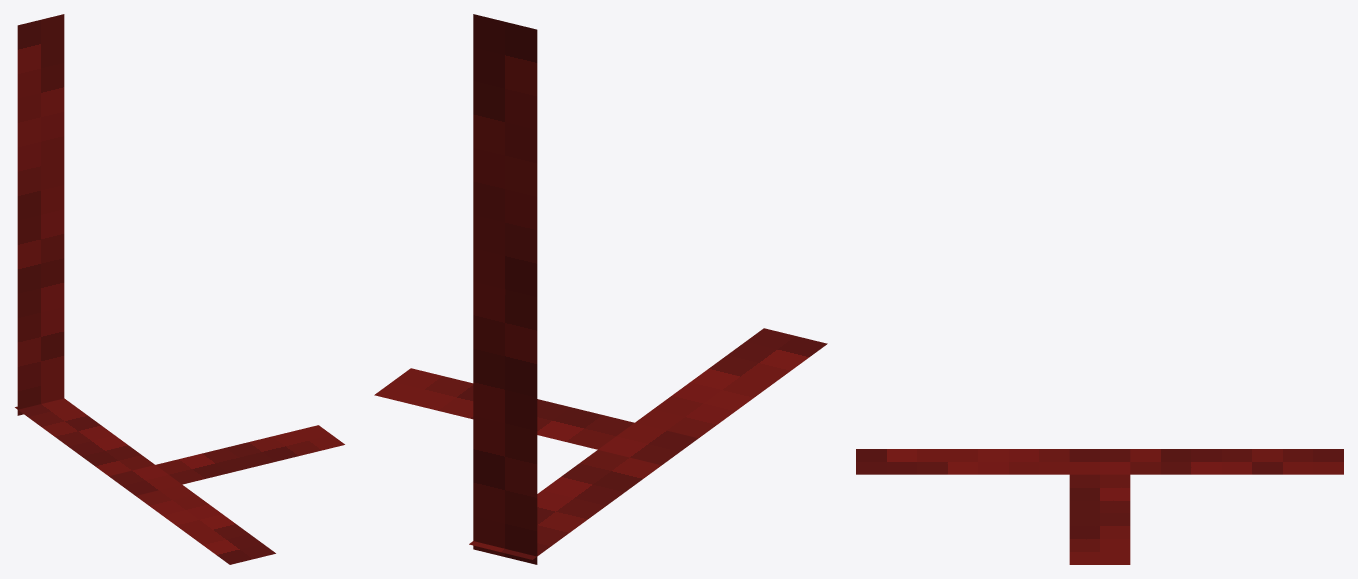
Rendered from dust_1012.gltf.
3 renders of one model, left to right at view 1: azimuth 30°, elevation 25°; view 2: azimuth 150°, elevation 25°; view 3: azimuth 270°, elevation 25°, orthographic. The views are drawn at different scales.
Visible parts, largest first — view 1: dust_1012; view 2: dust_1012; view 3: dust_1012.
Boxes of the visible parts, x1=… form: dust_1012: x1=15, y1=14, x2=344, y2=564; dust_1012: x1=374, y1=14, x2=827, y2=564; dust_1012: x1=856, y1=449, x2=1343, y2=564.
Size of the model in its own units: 0.5625 by 1 by 1.
Materials: 1 (1 with a texture image).
